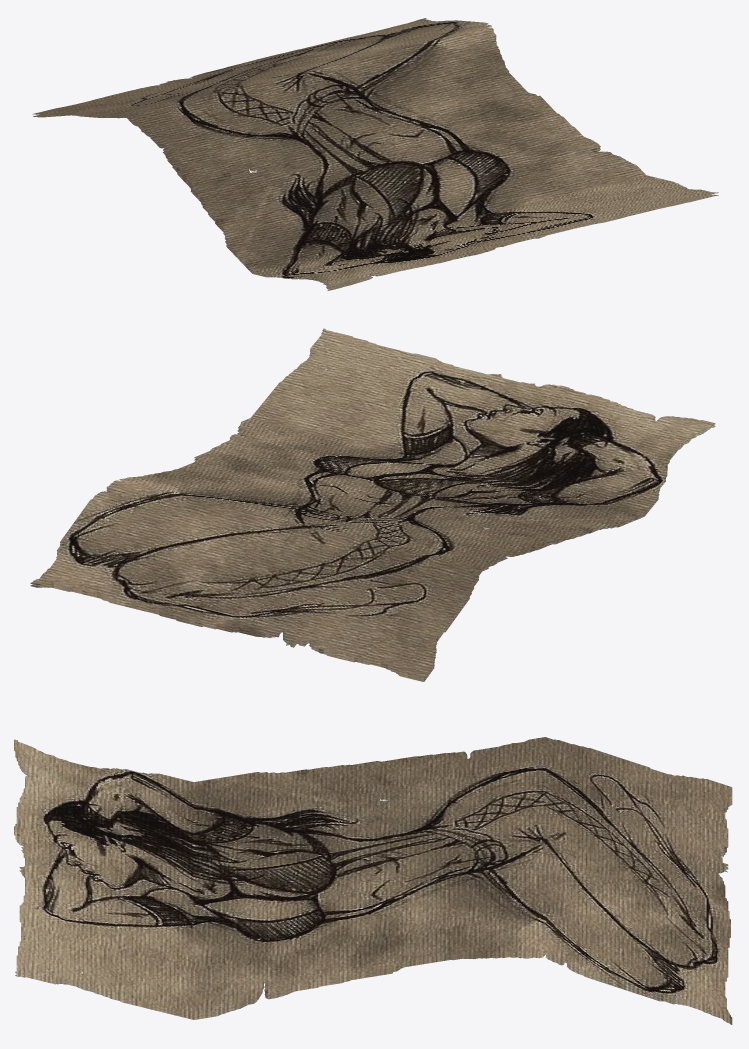
File: GS_FURNITURE_PORN_KOZA.glb
3 renders of one model, top to bottom at view 1: azimuth 30°, elevation 25°; view 2: azimuth 150°, elevation 25°; view 3: azimuth 270°, elevation 25°, orthographic. The views are drawn at different scales.
Visible parts, largest first — view 1: Mesh; view 2: Mesh; view 3: Mesh.
Boxes of the visible parts, box(x1,y1,x2,y2) form: Mesh: box(32, 18, 718, 290); Mesh: box(30, 328, 715, 681); Mesh: box(14, 737, 732, 1024).
Size of the model in its own units: 0.46 by 0.0551 by 0.5524.
1 material, 1 textured.
